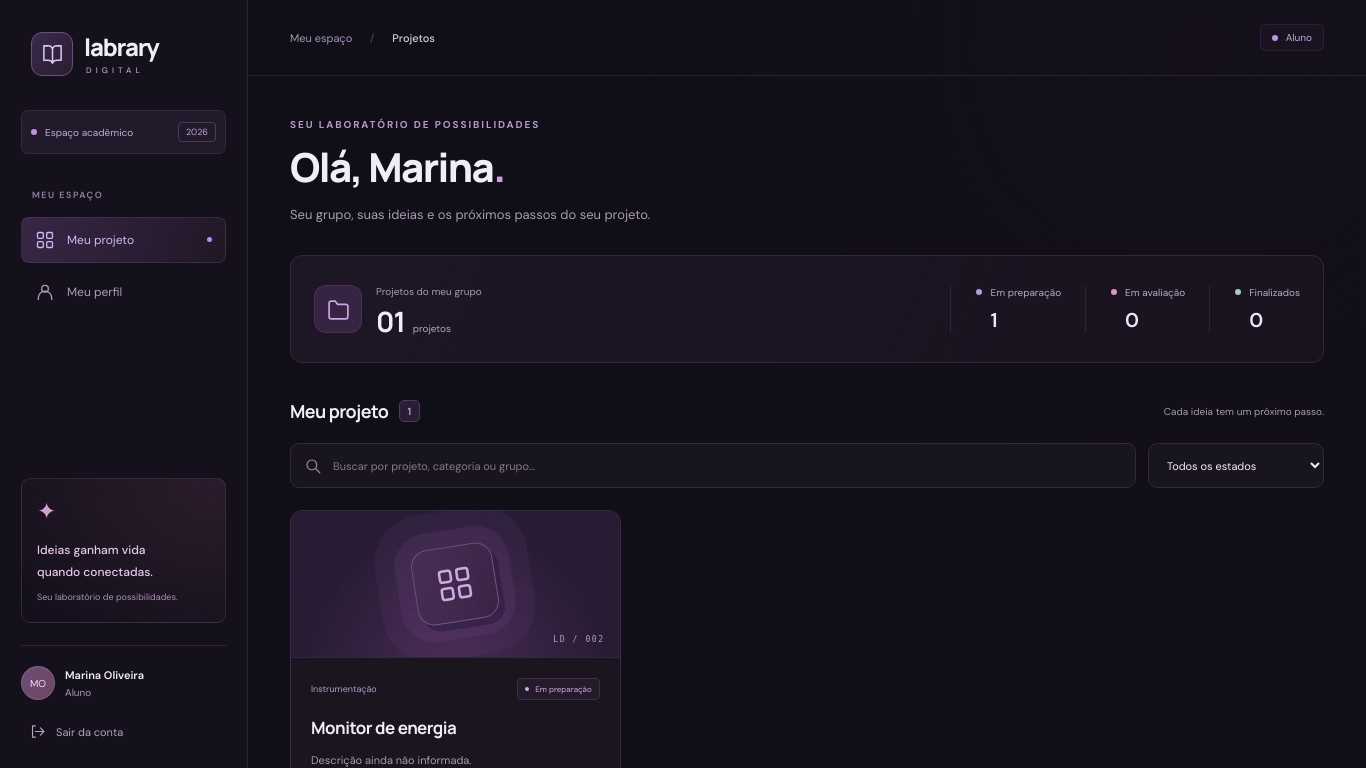
HU01: interface › usa descrições alternativas para projeto sem descrição
Expected: the text "Descrição ainda não informada." is shown, [311,753,472,767]
Click the link "Monitor de energia": (384, 728) [311,716,456,740]
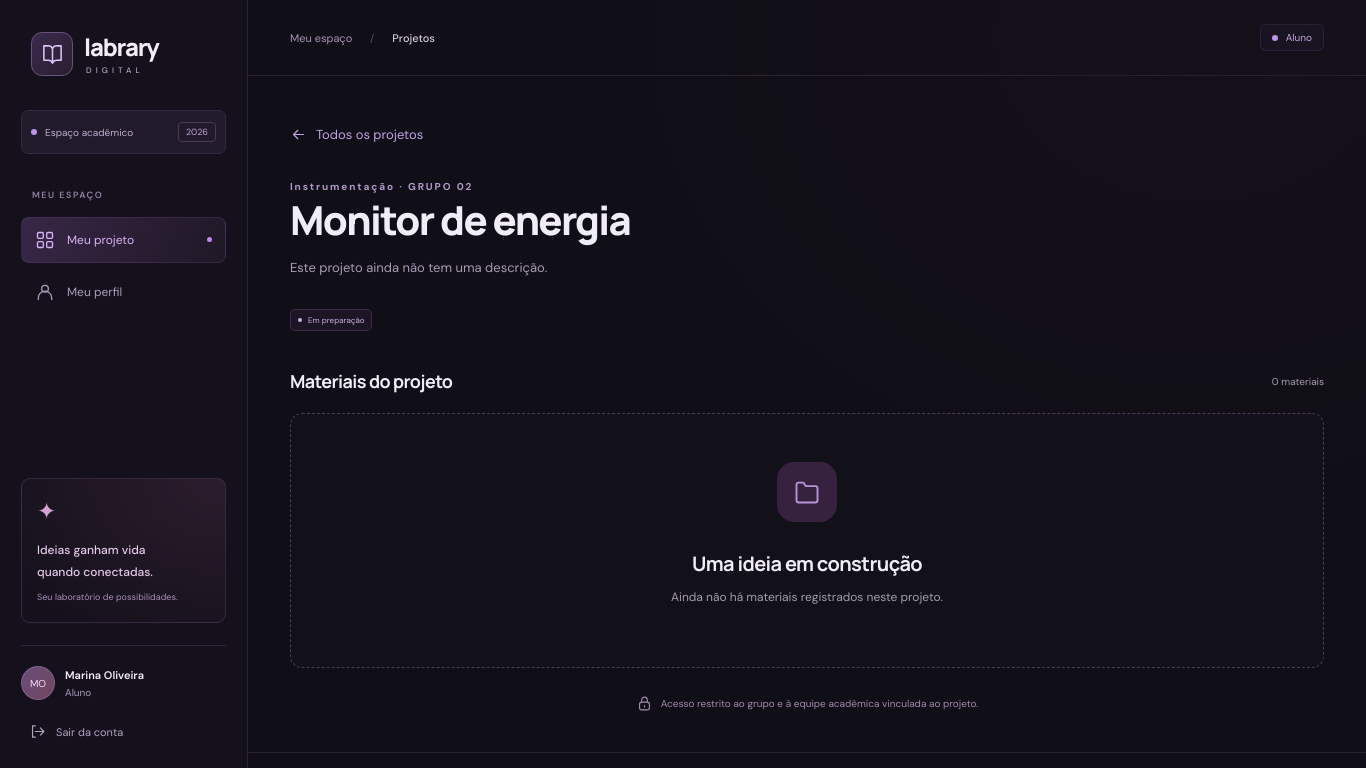
Result: the text "Este projeto ainda não tem uma descrição." is shown at [290,259,547,276]
